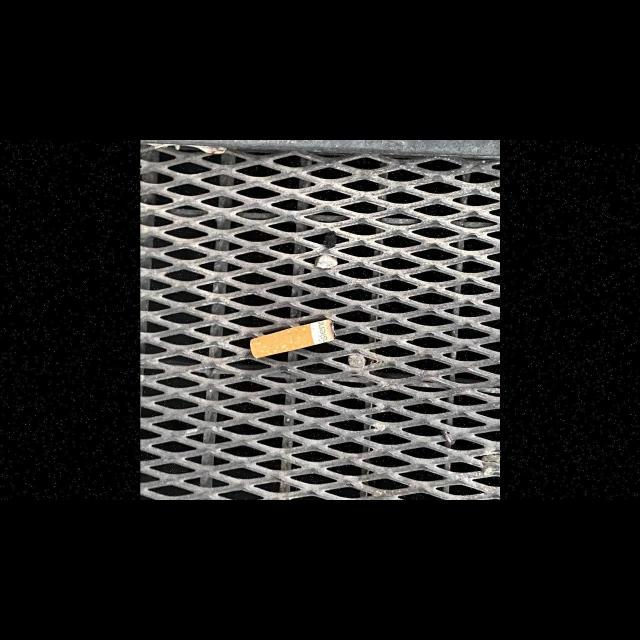cigarette: (249, 318, 337, 359)
